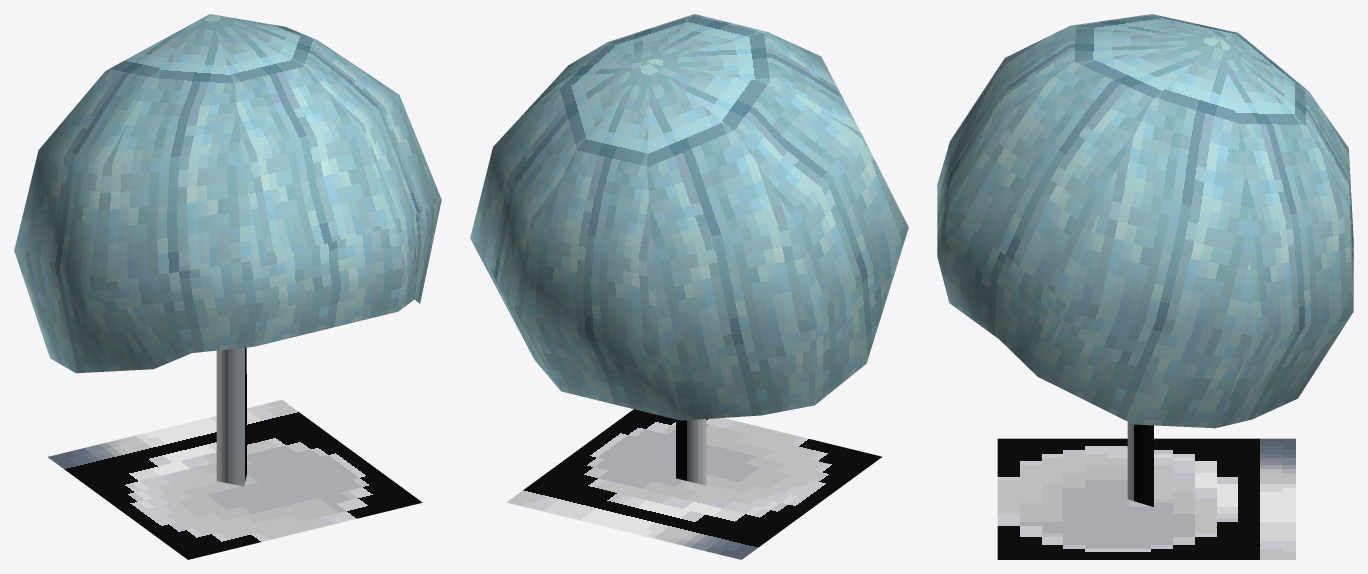
The picture shows the model from 3 angles, left to right: view 1: azimuth 30°, elevation 25°; view 2: azimuth 150°, elevation 25°; view 3: azimuth 270°, elevation 25°; orthographic projection. The views are drawn at different scales.
Visible parts, largest first — view 1: 2890head025_c; view 2: 2890head025_c; view 3: 2890head025_c.
Boxes of the visible parts, x1=… form: 2890head025_c: x1=14, y1=14, x2=441, y2=559; 2890head025_c: x1=470, y1=14, x2=908, y2=559; 2890head025_c: x1=937, y1=14, x2=1353, y2=559.
Bounding box in the file's own units: 0.6897 × 0.8328 × 0.6704.
2 materials, 2 textured.
